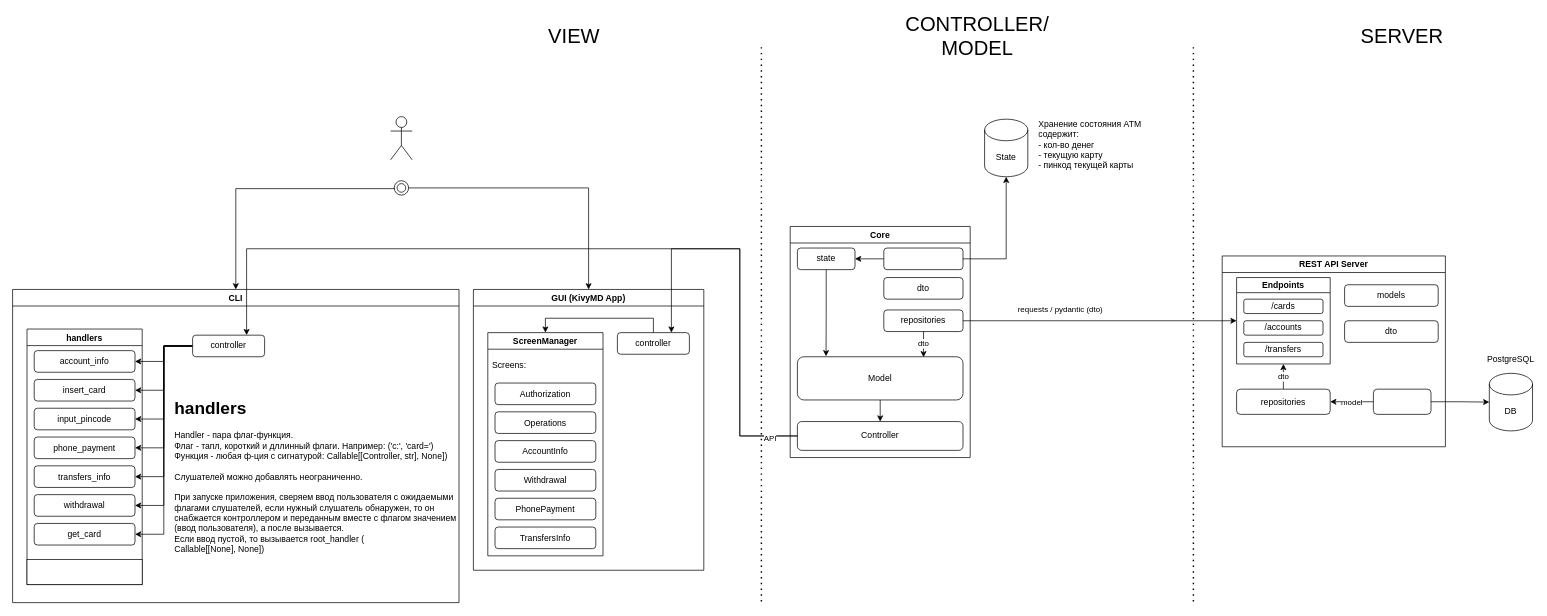
Image size: 1547x616. Some labels were removed from this diagram. Here are the shapes that lost their labels. From the top down, the centre of each, then its label:
point 401,138: user
point 923,258: xml/json engine
point 1402,401: session
point 84,572: root handler
